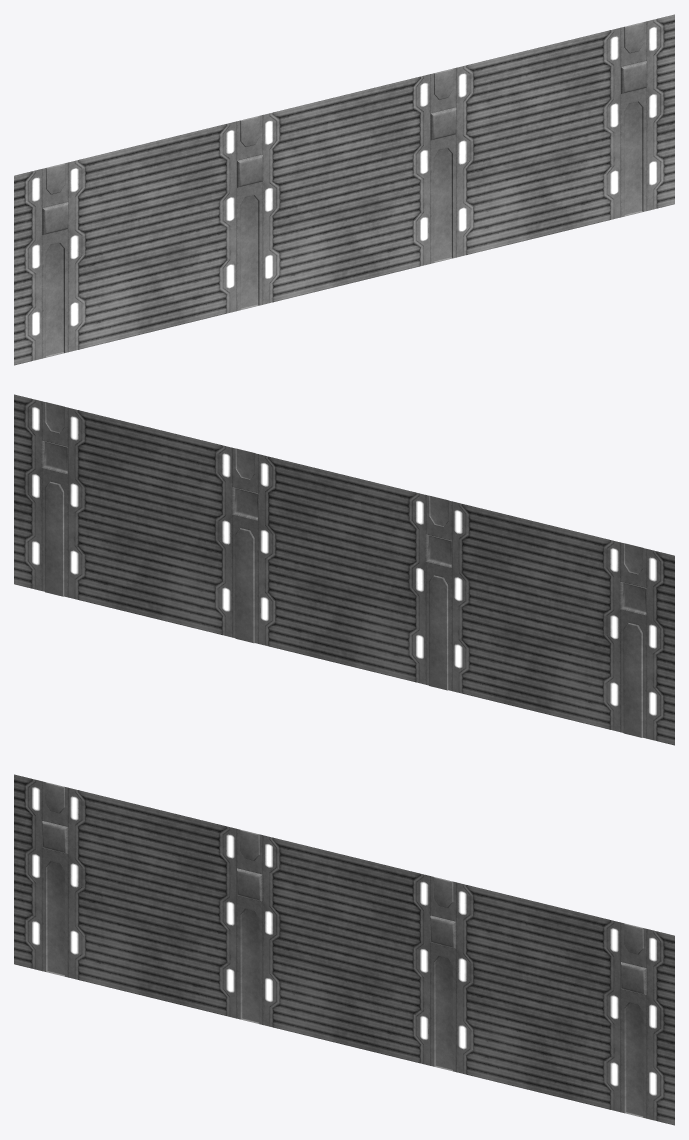
File: Wall_Clean.fbx
3 views of the same model, one above another, from view 1: azimuth 30°, elevation 25°; view 2: azimuth 150°, elevation 25°; view 3: azimuth 330°, elevation 25° (orthographic).
Visible parts, largest first — view 1: Wall_Clean; view 2: Wall_Clean; view 3: Wall_Clean.
Part boxes in pixels (<box>): Wall_Clean: <box>14,14,674,365</box>; Wall_Clean: <box>14,394,674,745</box>; Wall_Clean: <box>14,774,674,1125</box>.
Size of the model in its own units: 755 by 207 by 4.66.
Materials: 1 (1 with a texture image).
